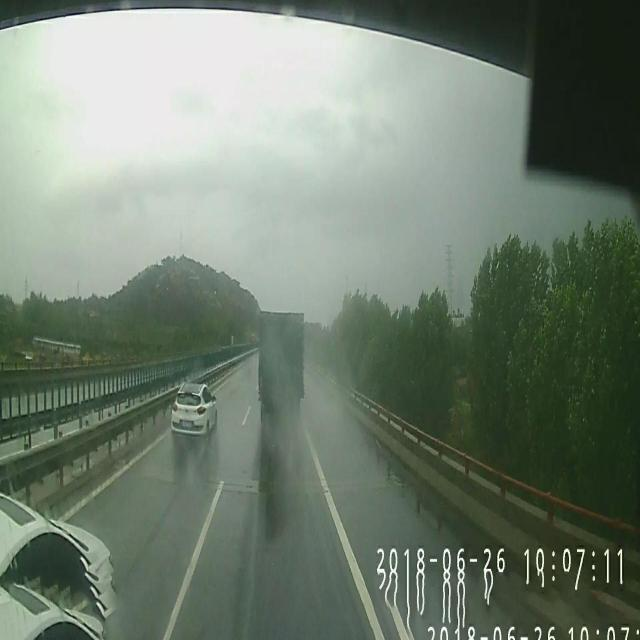car: (0, 492, 114, 640), (171, 382, 217, 439)
